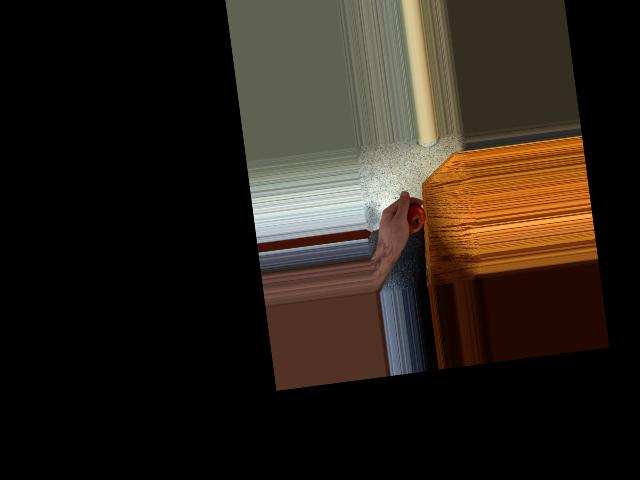apple: (390, 201, 430, 239)
